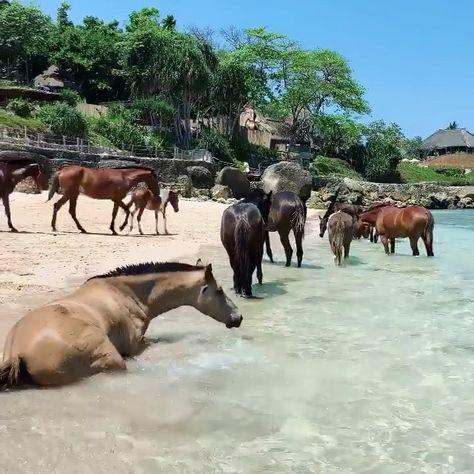horse: (0, 258, 243, 391), (43, 164, 160, 235), (0, 160, 42, 232), (119, 186, 179, 235)
